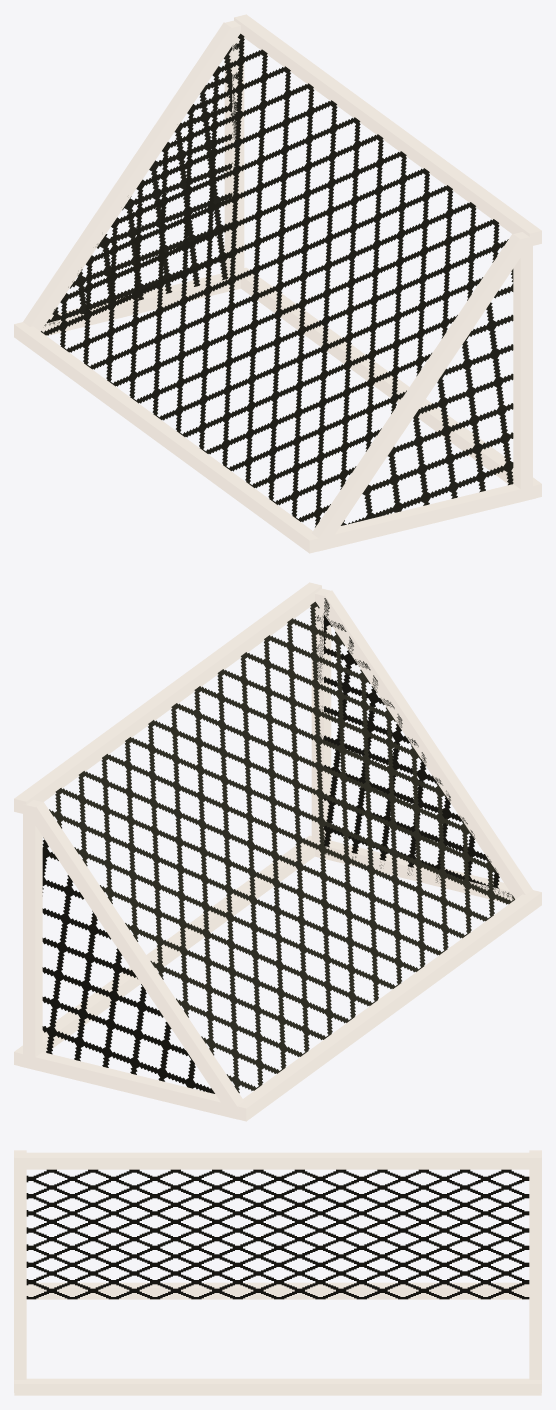
File: soccer_goal.glb
3 renders of one model, top to bottom at view 1: azimuth 30°, elevation 25°; view 2: azimuth 150°, elevation 25°; view 3: azimuth 270°, elevation 25°, orthographic. The views are drawn at different scales.
Parts seen in each view (by area): view 1: mesh, frame; view 2: mesh, frame; view 3: frame, mesh.
Boxes of the visible parts, left/top/right/bottom form: mesh: left=41, top=33, right=513, bottom=527; frame: left=14, top=14, right=541, bottom=553; mesh: left=42, top=598, right=514, bottom=1093; frame: left=14, top=582, right=541, bottom=1121; frame: left=14, top=1150, right=541, bottom=1395; mesh: left=26, top=1169, right=529, bottom=1299.
Size of the model in its own units: 2.32 by 2.54 by 5.12.
2 materials, 1 textured.
